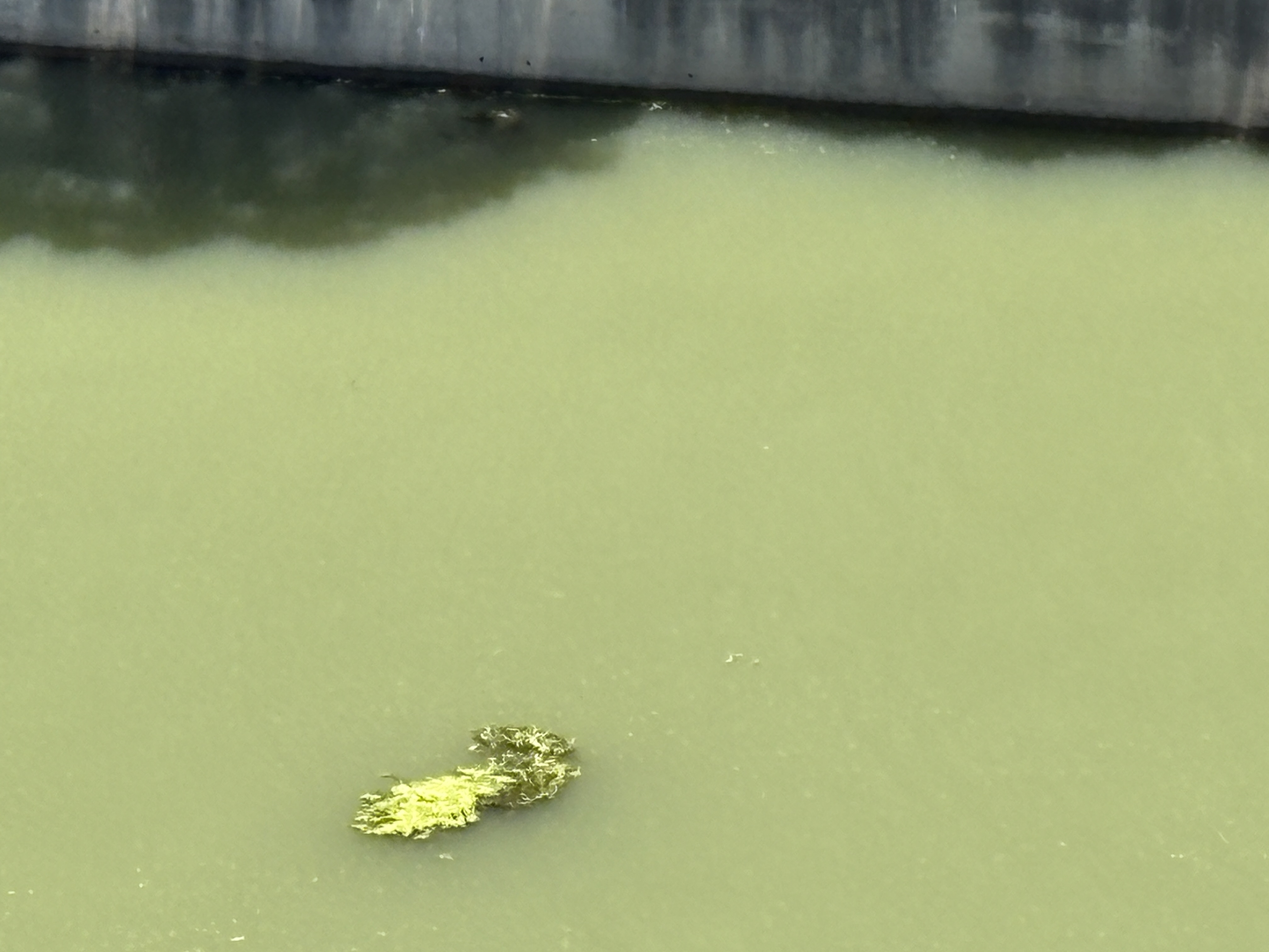Other: (339, 726, 575, 843)
